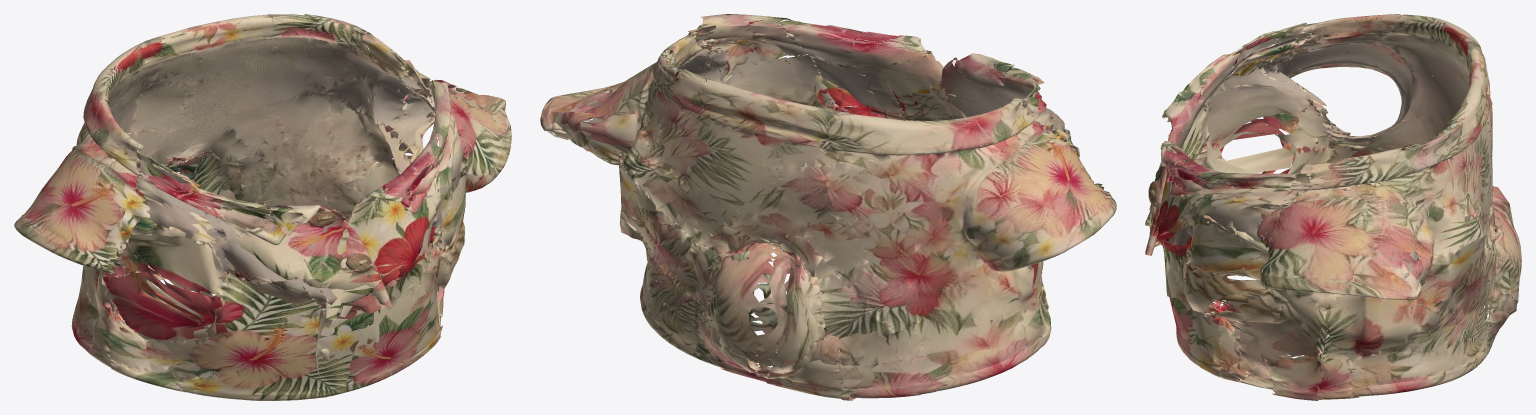
The model's file is shirt_hawaii.glb.
3 views of the same model, side by side, from view 1: azimuth 30°, elevation 25°; view 2: azimuth 150°, elevation 25°; view 3: azimuth 270°, elevation 25° (orthographic). The views are drawn at different scales.
Parts seen in each view (by area): view 1: shirt; view 2: shirt; view 3: shirt.
Boxes of the visible parts, box(x1,y1,x2,y2) form: shirt: box(14, 14, 511, 400); shirt: box(540, 14, 1116, 400); shirt: box(1145, 14, 1521, 400).
Bounding box in the file's own units: 1.39 × 0.703 × 0.9083.
1 material, 1 textured.
